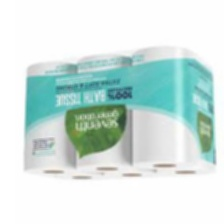tissue: (17, 40, 223, 191)
